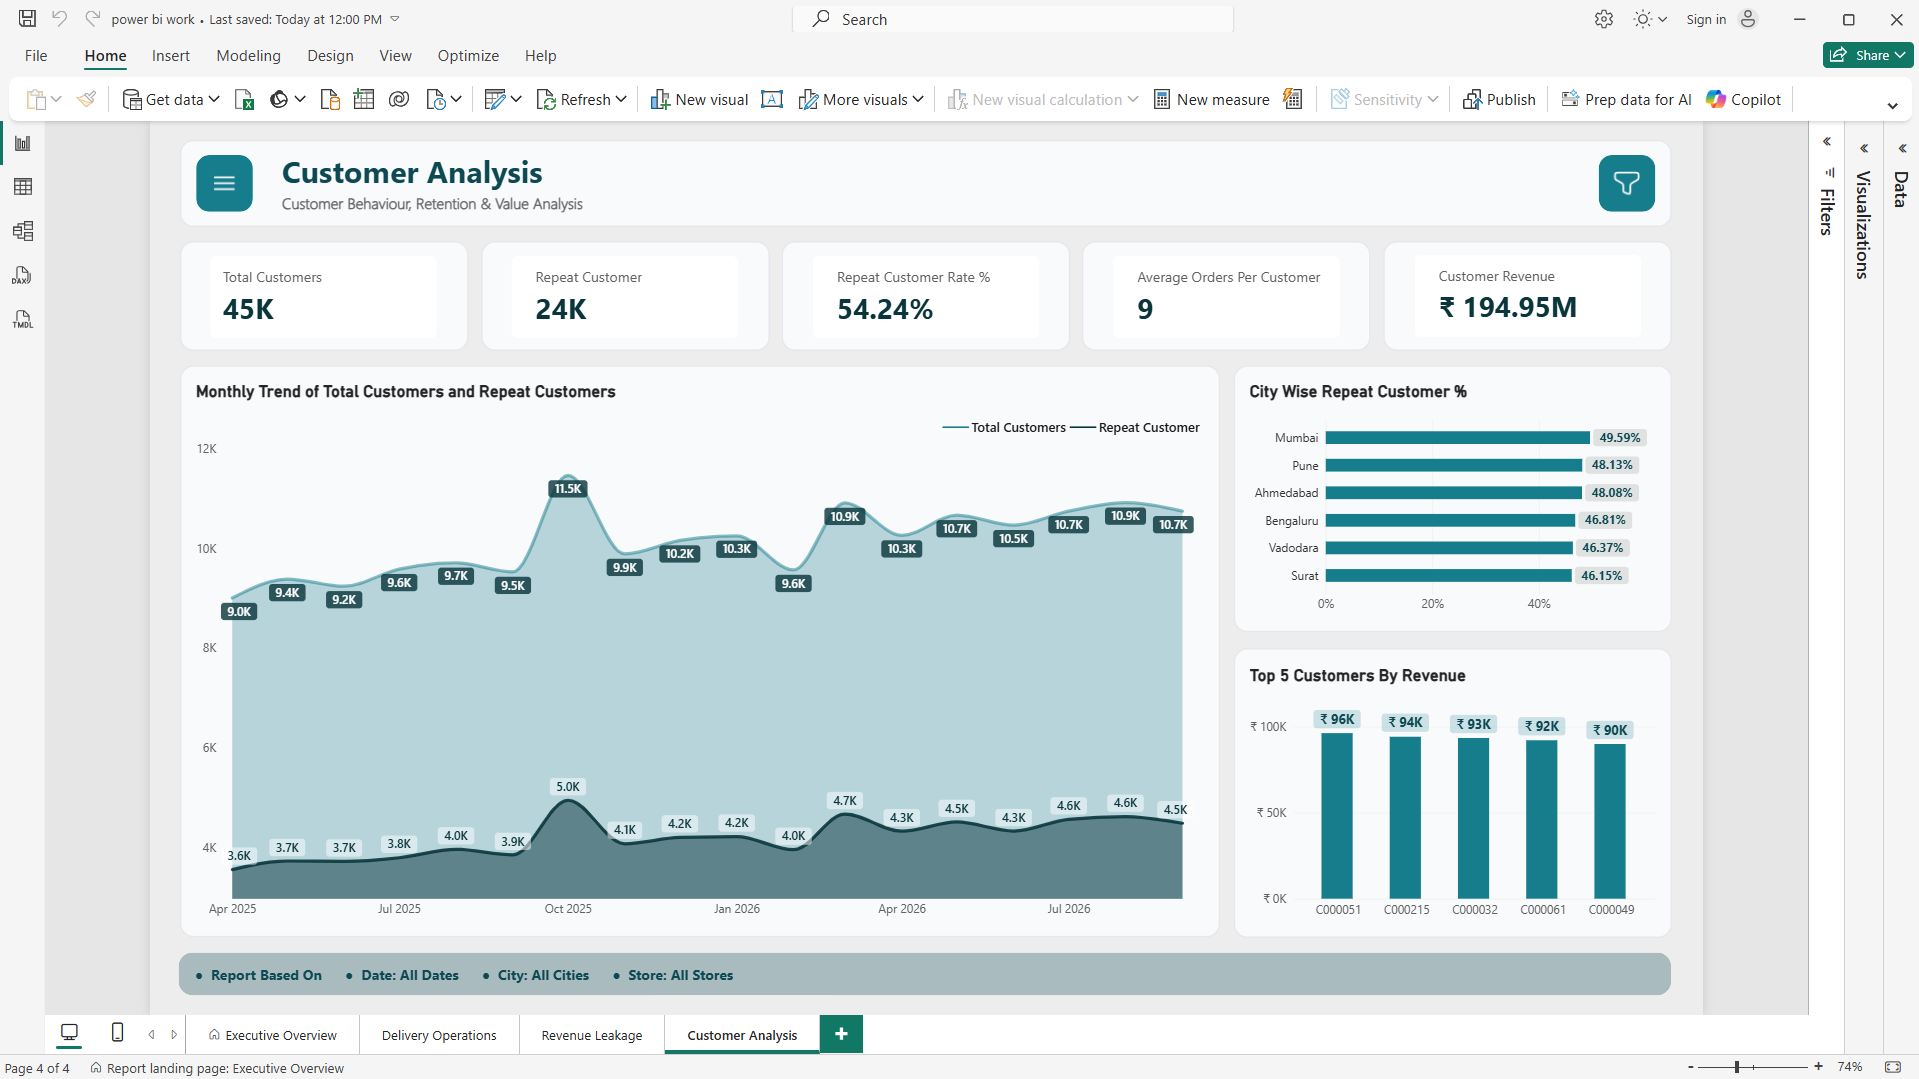

The dashboard page shown, as its layout file describes it:
{"tool":"powerbi","page":{"name":"Customer Analysis","canvas":[1920,1105],"ordinal":3},"visuals":[{"type":"shape","box":[37.1,22.9,1844.1,108.2],"z":0},{"type":"shape","box":[1338.6,302.4,542.2,330.3],"z":1000},{"type":"shape","box":[37.1,148.2,357.2,136.3],"z":2000},{"type":"shape","box":[36.7,302.4,1286.2,707.3],"z":3000},{"type":"shape","box":[1338.6,651.7,542.2,358.7],"z":4000},{"type":"shape","box":[35.7,1027.1,1844.5,52.7],"z":5000},{"type":"shape","box":[408.7,148.2,357.2,136.3],"z":6000},{"type":"shape","box":[780.3,148.2,357.2,136.3],"z":7000},{"type":"shape","box":[1151.8,148.2,357.2,136.3],"z":8000},{"type":"shape","box":[1523.4,148.2,357.2,136.3],"z":9000},{"type":"cardVisual","title":"ss","fields":{"Data":["Customer Analysis.Total Customers"]},"box":[57.1,149.4,314.9,136.2],"z":10000},{"type":"cardVisual","fields":{"Data":["Customer Analysis.Repeat Customer"]},"box":[429.2,149.4,314.9,136.2],"z":11000},{"type":"cardVisual","fields":{"Data":["Customer Analysis.Repeat Customer Rate %"]},"box":[802.7,149.4,314.9,136.2],"z":12000},{"type":"cardVisual","fields":{"Data":["Customer Analysis.Average Orders Per Customer"]},"box":[1173.3,149.4,314.9,136.2],"z":13000},{"type":"cardVisual","fields":{"Data":["Customer Analysis.Customer Revenue"]},"box":[1545.4,147.9,314.9,136.2],"z":14000},{"type":"actionButton","box":[56.7,41.7,70,70],"z":15000},{"type":"actionButton","box":[1790,41.7,70,70],"z":16000},{"type":"shape","box":[163.3,58.3,416.2,54.2],"z":17000},{"type":"shape","box":[163.3,31.7,416.2,54.2],"z":18000},{"type":"areaChart","title":"Monthly Trend of Total Customers and Repeat Customers","fields":{"Category":["calender.Date.Variation.Date Hierarchy.Year","calender.Date.Variation.Date Hierarchy.Month"],"Y":["Customer Analysis.Total Customers","Customer Analysis.Repeat Customer"]},"box":[36.7,302.4,1286.2,707.3],"z":19000},{"type":"clusteredBarChart","title":"City Wise Repeat Customer %","fields":{"Category":["stores.city"],"Y":["Customer Analysis.Repeat Customer Rate %"]},"box":[1338.6,302.4,541.6,330.3],"z":20000},{"type":"columnChart","title":"Top 5 Customers By Revenue","fields":{"Category":["orders.customer_id"],"Y":["Customer Analysis.Customer Revenue"]},"box":[1338.9,651.9,542,357.2],"z":21000}]}

Visuals, with their boxes on the page's 1920x1105 design canvas (x1, y1, x2, y2). These are canvas units, not pixel positions in the 1919x1079 screenshot, which may show the page scaled, cropped or inside an application window:
shape: box(37, 23, 1881, 131)
shape: box(1339, 302, 1881, 633)
shape: box(37, 148, 394, 284)
shape: box(37, 302, 1323, 1010)
shape: box(1339, 652, 1881, 1010)
shape: box(36, 1027, 1880, 1080)
shape: box(409, 148, 766, 284)
shape: box(780, 148, 1138, 284)
shape: box(1152, 148, 1509, 284)
shape: box(1523, 148, 1881, 284)
"ss" cardVisual: box(57, 149, 372, 286)
cardVisual - Customer Analysis.Repeat Customer: box(429, 149, 744, 286)
cardVisual - Customer Analysis.Repeat Customer Rate %: box(803, 149, 1118, 286)
cardVisual - Customer Analysis.Average Orders Per Customer: box(1173, 149, 1488, 286)
cardVisual - Customer Analysis.Customer Revenue: box(1545, 148, 1860, 284)
actionButton: box(57, 42, 127, 112)
actionButton: box(1790, 42, 1860, 112)
shape: box(163, 58, 580, 112)
shape: box(163, 32, 580, 86)
"Monthly Trend of Total Customers and Repeat Customers" areaChart: box(37, 302, 1323, 1010)
"City Wise Repeat Customer %" clusteredBarChart: box(1339, 302, 1880, 633)
"Top 5 Customers By Revenue" columnChart: box(1339, 652, 1881, 1009)
